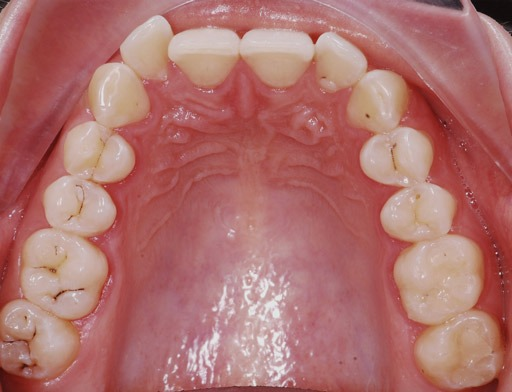UL1BC_decay: (358, 129, 435, 188)
UL1M_healthy: (395, 239, 489, 321)
UL2BC_healthy: (380, 185, 459, 239)
UL2M_healthy: (415, 318, 503, 387)
ULCI_healthy: (241, 25, 315, 92)
ULC_decay: (348, 70, 412, 135)
ULLI_healthy: (312, 29, 367, 96)
UR1BC_healthy: (65, 122, 135, 184)
UR1M_decay: (22, 230, 111, 317)
UR2BC_decay: (40, 178, 121, 233)
UR2M_decay: (1, 301, 81, 379)
URCI_healthy: (167, 25, 243, 86)
URC_healthy: (91, 65, 152, 124)
URLI_healthy: (121, 19, 176, 85)
